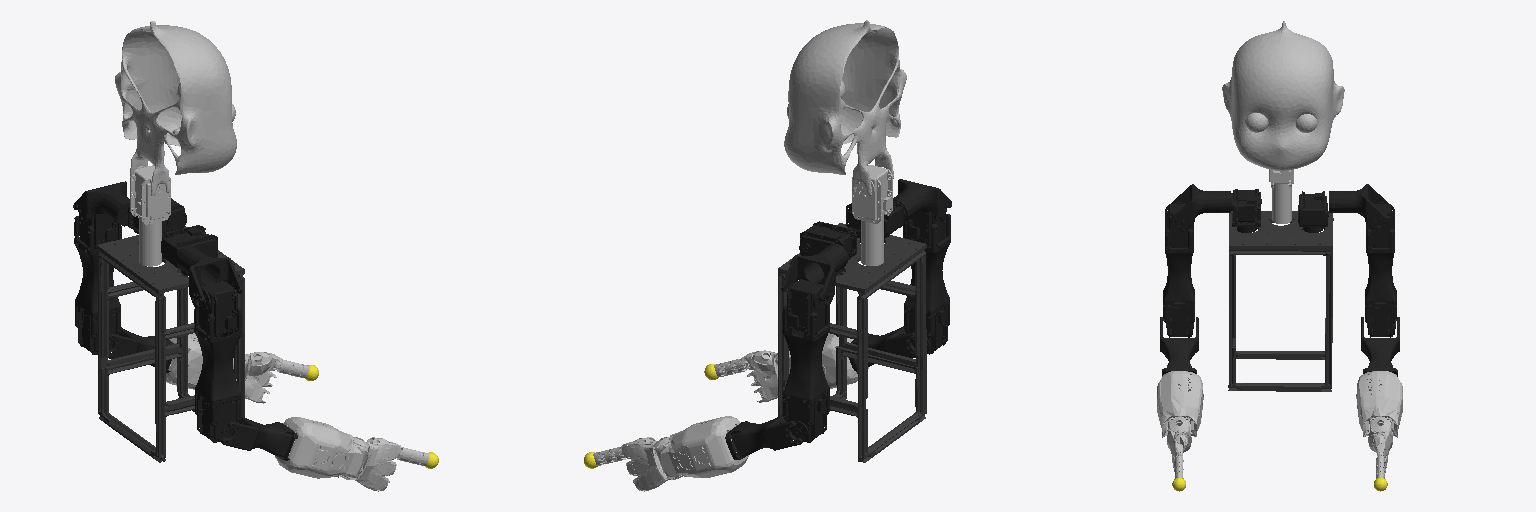
The robot description file, URDF, robot "nico_upper_rh6d":
<?xml version="1.0" ?>
<!-- =================================================================================== -->
<!-- |    This document was manually created   and the meshes resized and repositioned | -->
<!-- |    EDITING THIS FILE BY HAND IS NOT RECOMMENDED                                 | -->
<!-- =================================================================================== -->
<!--
  Copyright (c) 2023, [author]
  All rights reserved.

  This work is licensed under the Creative Commons Attribution-NonCommercial-NoDerivs 3.0 Unported License.
  To view a copy of this license, visit http://creativecommons.org/licenses/by-nc-nd/3.0/ or send a letter to
  Creative Commons, 444 Castro Street, Suite 900, Mountain View, California, 94041, USA.
-->
<robot name="nico_upper_rh6d">
	<link name="world" />
	<link name="torso">
		<visual>
			<geometry>
				<mesh filename="mesh/torso.stl"/>
			</geometry>
			<origin rpy="0 0 0" xyz="0.0 0.0 0.0"/>
			<material name="torso_color">
				<color rgba="0.270588 0.270588 0.270588 1"/>
			</material>
		</visual>
	</link>
	<joint name="world_to_base_link" type="fixed">
    	<parent link="world"/>
    	<child link="torso"/>
  	</joint>
    <link name="neck">
		<visual>
			<geometry>
				<mesh filename="mesh/neck.stl"/>
			</geometry>
			<origin rpy="0 0 0" xyz="0.0 0.0 0.0"/>
			<material name="neck_color">
				<color rgba="0.74902 0.74902 0.74902 1"/>
			</material>
		</visual>
		<collision>
			<geometry>
				<mesh filename="mesh/neck.stl"/>
			</geometry>
			<origin rpy="0 0 0" xyz="0.0 0.0 0.0"/>
		</collision>
		<inertial>
			<mass value="0.090439"/>
			<inertia ixx="0.00006" ixy="-0" ixz="-0" iyy="0.000056" iyz="-0.000001" izz="0.000019"/>
			<origin rpy="0 0 0" xyz="0 0.000266 0.050352"/>
		</inertial>
	</link>
	<joint name="head_z_rjoint" type="fixed">
		<parent link="torso"/>
		<child link="neck"/>
		<origin rpy="0 0 0" xyz="-0.025 0.005 0.23"/>
		<axis xyz="0 0 1"/>
		<limit effort="30" lower="-1.5708" upper="1.5708" velocity="1"/>
	</joint>
	<link name="head">
		<visual>
			<geometry>
				<mesh filename="mesh/head.stl"/>
			</geometry>
			<origin rpy="0 0 0" xyz="0 0 0"/>
			<material name="head_color">
				<color rgba="0.74902 0.74902 0.74902 1"/>
			</material>
		</visual>
		<collision>
			<geometry>
				<mesh filename="mesh/head.stl"/>
			</geometry>
			<origin rpy="0 0 0" xyz="0 0 0"/>
		</collision>
		<inertial>
			<mass value="0.294137"/>
			<inertia ixx="0.001424" ixy="-0" ixz="0.000083" iyy="0.00159" iyz="-0.000002" izz="0.001485"/>
			<origin rpy="0 0 0" xyz="0.01525 -0.023771 0.09423"/>
		</inertial>
	</link>
	<joint name="head_y_rjoint" type="fixed">
		<parent link="neck"/>
		<child link="head"/>
		<origin rpy="0 0 0" xyz="0 0.0 0.105"/>
		<axis xyz="0 1 0"/>
		<limit effort="30" lower="-0.8726" upper="0.4363" velocity="1"/>
	</joint>
    <!-- ====RIGHT ARM=== -->
	<link name="right_shoulder">
		<visual>
			<geometry>
				<mesh filename="mesh/right_shoulder.stl"/>
			</geometry>
			<origin rpy="0 0 0" xyz="0 0 0"/>
			<material name="right_shoulder_color">
				<color rgba="0.176471 0.176471 0.176471 1"/>
			</material>
		</visual>
		<collision>
			<geometry>
				<mesh filename="mesh/right_shoulder.stl"/>
			</geometry>
			<origin rpy="0 0 0" xyz="0 0 0"/>
		</collision>
		<inertial>
			<mass value="0.084038"/>
			<inertia ixx="0.000026" ixy="-0.000001" ixz="-0.000002" iyy="0.000034" iyz="-0" izz="0.000033"/>
			<origin rpy="0 0 0" xyz="0.005637 0.000876 0.033153"/>
		</inertial>
	</link>
	<joint name="r_shoulder_z_rjoint" type="revolute">
		<parent link="torso"/>
		<child link="right_shoulder"/>
		<origin rpy="0 0 0" xyz="0.005 -0.045 0.23"/>
		<axis xyz="0 0 1"/>
		<limit effort="30" lower="-0.4363" upper="1.3963" velocity="1"/>
	</joint>
	<link name="right_collarbone">
		<visual>
			<geometry>
				<mesh filename="mesh/right_collar.stl"/>
			</geometry>
			<origin rpy="0 0 0" xyz="0 0 0"/>
			<material name="right_collarbone_color">
				<color rgba="0.176471 0.176471 0.176471 1"/>
			</material>
		</visual>
		<collision>
			<geometry>
				<mesh filename="mesh/right_collar.stl"/>
			</geometry>
			<origin rpy="0 0 0" xyz="0 0 0"/>
		</collision>
		<inertial>
			<mass value="0.024811"/>
			<inertia ixx="0.000014" ixy="-0" ixz="0" iyy="0.000011" iyz="-0.000001" izz="0.000019"/>
			<origin rpy="0 0 0" xyz="-0 -0.041345 -0.002364"/>
		</inertial>
	</link>
	<joint name="r_shoulder_y_rjoint" type="revolute">
		<parent link="right_shoulder"/>
		<child link="right_collarbone"/>
		<origin rpy="0 0 0" xyz="-0.021 -0.023 0.033"/>
		<axis xyz="0 -1 0"/>
		<limit effort="30" lower="-0.5236" upper="3.1416" velocity="1"/>
	</joint>
	<link name="right_upper_arm">
		<visual>
			<geometry>
				<mesh filename="mesh/right_upper_arm.stl"/>
			</geometry>
			<origin rpy="0 0 0" xyz="0 0 0"/>
			<material name="right_upper_arm_color">
				<color rgba="0.176471 0.176471 0.176471 1"/>
			</material>
		</visual>
		<collision>
			<geometry>
				<mesh filename="mesh/right_upper_arm.stl"/>
			</geometry>
			<origin rpy="0 0 0" xyz="0 0 0"/>
		</collision>
		<inertial>
			<mass value="0.189729"/>
			<inertia ixx="0.000851" ixy="0" ixz="0" iyy="0.000851" iyz="-0.000005" izz="0.000048"/>
			<origin rpy="0 0 0" xyz="-0.02306 -0.000321 -0.0866"/>
		</inertial>
	</link>
	<joint name="r_upperarm_x_rjoint" type="revolute">
		<parent link="right_collarbone"/>
		<child link="right_upper_arm"/>
		<origin rpy="0 0 0" xyz="0.00 -0.073 -0.023"/>
		<axis xyz="-1 0 0"/>
		<limit effort="30" lower="0" upper="1.2217" velocity="1"/>
	</joint>
	<link name="right_lower_arm">
		<visual>
			<geometry>
				<mesh filename="mesh/right_lower_arm.stl"/>
			</geometry>
			<origin rpy="0 0 0" xyz="0 0 0"/>
			<material name="right_lower_arm_color">
				<color rgba="0.176471 0.176471 0.176471 1"/>
			</material>
		</visual>
		<collision>
			<geometry>
				<mesh filename="mesh/right_lower_arm.stl"/>
			</geometry>
			<origin rpy="0 0 0" xyz="0 0 0"/>
		</collision>
		<inertial>
			<mass value="0.076793"/>
			<inertia ixx="0.000104" ixy="-0" ixz="-0" iyy="0.000095" iyz="-0.000002" izz="0.000021"/>
			<origin rpy="0 0 0" xyz="0 0.022485 -0.081055"/>
		</inertial>
	</link>
	<joint name="r_elbow_y_rjoint" type="revolute">
		<parent link="right_upper_arm"/>
		<child link="right_lower_arm"/>
		<origin rpy="0 3.14 0" xyz="0.0 0 -0.17"/>
		<axis xyz="0 1 0"/>
		<limit effort="30" lower="0.8726" upper="3.1416" velocity="1"/>
	</joint>
	<link name="right_wrist">
		<visual>
			<geometry>
				<mesh filename="mesh/right_wrist.stl"/>
			</geometry>
			<origin rpy="0 0 0" xyz="0 0 0"/>
			<material name="right_wrist_color">
				<color rgba="0.74902 0.74902 0.74902 1"/>
			</material>
		</visual>
		<collision>
			<geometry>
				<mesh filename="mesh/right_wrist.stl"/>
			</geometry>
			<origin rpy="0 0 0" xyz="0 0 0"/>
		</collision>
		<inertial>
			<mass value="0.028397"/>
			<inertia ixx="0.000043" ixy="-0" ixz="0.000004" iyy="0.000058" iyz="-0.000007" izz="0.000029"/>
			<origin rpy="0 0 0" xyz="0.000031 -0.011056 -0.0675"/>
		</inertial>
	</link>
	<joint name="r_wrist_z_rjoint" type="revolute">
		<parent link="right_lower_arm"/>
		<child link="right_wrist"/>
		<origin rpy="0 0 1.57" xyz="0 0 -0.105"/>
		<axis xyz="0 0 1"/>
		<limit effort="30" lower="-1.571" upper="1.571" velocity="1"/>
	</joint>
	<link name="right_palm"> <!--gripper-->
		<visual>
			<geometry>
				<mesh filename="mesh/right_palm.stl"/>
			</geometry>
			<origin rpy="0 0 0" xyz="0 0 0"/>
			<material name="gripper_color">
				<color rgba="0.74902 0.74902 0.74902 1"/>
			</material>
		</visual>
		<collision>
			<geometry>
				<mesh filename="mesh/right_palm.stl"/>
			</geometry>
			<origin rpy="0 0 0" xyz="0 0 0"/>
		</collision>
		<inertial>
			<mass value="0.005332"/>
			<inertia ixx="0.000015" ixy="0.000001" ixz="-0.000004" iyy="0.000017" iyz="0.000004" izz="0.000006"/>
			<origin rpy="0 0 0" xyz="-0.029511 0.002253 -0.023968"/>
		</inertial>
	</link>
	<joint name="r_wrist_x_rjoint" type="revolute">
		<parent link="right_wrist"/>
		<child link="right_palm"/>
		<origin rpy="0 0 0" xyz="0 0 -0.10"/>
		<axis xyz="0 1 0"/>
		<limit effort="30" lower="-.78" upper="0.78" velocity="1"/>
	</joint>
	<!--link name="endeffector">
    	<visual>
      		<origin rpy="0 0 0" xyz="0 0.0 0.0"/>
      		<geometry>
        		<sphere radius="0.01"/>
      		</geometry>
    	</visual>
  	</link>
	<joint name="endeffector_joint" type="fixed">
    	<parent link="gripper"/>
    	<child link="endeffector"/>
    	<origin rpy="0 0 0" xyz="0.00 -0.02 -0.11"/>
	</joint-->
	<!--link name="middlefinger">
		<visual>
			<geometry>
				<mesh filename="mesh/finger.stl"/>
			</geometry>
			<origin rpy="0 0 0" xyz="0 0 0"/>
			<material name="finger_color">
				<color rgba="0.74902 0.74902 0.74902 1"/>
			</material>
		</visual>
		<collision>
			<geometry>
				<mesh filename="mesh/finger.stl"/>
			</geometry>
			<origin rpy="0 0 0" xyz="0 0 0"/>
		</collision>
		<inertial>
			<mass value="0.000009"/>
			<inertia ixx="0" ixy="0" ixz="-0" iyy="0" iyz="0" izz="0"/>
			<origin rpy="0 0 0" xyz="0.005409 0.000556 -0.005751"/>
		</inertial>
	</link-->
	<!--link name="littlefinger">
		<visual>
			<geometry>
				<mesh filename="mesh/finger.stl"/>
			</geometry>
			<origin rpy="0 0 0" xyz="0 0 0"/>
			<material name="finger_color">
				<color rgba="0.74902 0.74902 0.74902 1"/>
			</material>
		</visual>
		<collision>
			<geometry>
				<mesh filename="mesh/finger.stl"/>
			</geometry>
			<origin rpy="0 0 0" xyz="0 0 0"/>
		</collision>
		<inertial>
			<mass value="0.000009"/>
			<inertia ixx="0" ixy="0" ixz="-0" iyy="0" iyz="0" izz="0"/>
			<origin rpy="0 0 0" xyz="0.005409 0.000556 -0.005751"/>
		</inertial>
	</link-->
	<link name="gripper"> <!--indexfinder-->
		<visual>
			<geometry>
				<mesh filename="mesh/finger.stl"/>
			</geometry>
			<origin rpy="0 0 0" xyz="0 0 0"/>
			<material name="finger_color">
				<color rgba="0.74902 0.74902 0.74902 1"/>
			</material>
		</visual>
		<collision>
			<geometry>
				<mesh filename="mesh/finger.stl"/>
			</geometry>
			<origin rpy="0 0 0" xyz="0 0 0"/>
		</collision>
		<inertial>
			<mass value="0.000009"/>
			<inertia ixx="0" ixy="0" ixz="-0" iyy="0" iyz="0" izz="0"/>
			<origin rpy="0 0 0" xyz="0.005409 0.000556 -0.005751"/>
		</inertial>
	</link>
	<!--joint name="middlefinger_rjoint" type="fixed">
		<parent link="gripper"/>
		<child link="middlefinger"/>
		<origin rpy="0 0 0" xyz="0 0 -0.06"/>
		<axis xyz="0 1 0"/>
		<limit effort="30" lower="-2.57" upper="0" velocity="1"/>
	</joint-->
	<!--joint name="litlefinger_rjoint" type="fixed">
		<parent link="gripper"/>
		<child link="littlefinger"/>
		<origin rpy="0 0 0" xyz="0.00 0.02 -0.06"/>
		<axis xyz="0 1 0"/>
		<limit effort="30" lower="-2.57" upper="0" velocity="1"/>
	</joint-->
	<joint name="gripper_rjoint" type="revolute">
		<parent link="right_palm"/>
		<child link="gripper"/>
		<origin rpy="0 0 0" xyz="0.00 -0.02 -0.06"/>
		<axis xyz="0 1 0"/>
		<limit effort="30" lower="-2.57" upper="0" velocity="1"/>
	</joint>
	<link name="endeffector">
    	<visual>
      		<origin rpy="0 0 0" xyz="0 0.0 0.0"/>
      		<geometry>
        		<sphere radius="0.01"/>
      		</geometry>
    	</visual>
  	</link>
	<joint name="endeffector_joint" type="fixed">
    	<parent link="gripper"/>
    	<child link="endeffector"/>
    	<origin rpy="0 0 0" xyz="0.00 -0.0 -0.05"/>
	</joint>
    <!-- ====LEFT ARM=== -->
    <link name="left_shoulder">
		<visual>
			<geometry>
				<mesh filename="mesh/left_shoulder.stl"/>
			</geometry>
			<origin rpy="0 0 0" xyz="0 0 0"/>
			<material name="left_shoulder_color">
				<color rgba="0.176471 0.176471 0.176471 1"/>
			</material>
		</visual>
		<collision>
			<geometry>
				<mesh filename="mesh/left_shoulder.stl"/>
			</geometry>
			<origin rpy="0 0 0" xyz="0 0 0"/>
		</collision>
		<inertial>
			<mass value="0.084038"/>
			<inertia ixx="0.000026" ixy="-0.000001" ixz="-0.000002" iyy="0.000034" iyz="-0" izz="0.000033"/>
			<origin rpy="0 0 0" xyz="0.005637 0.000876 0.033153"/>
		</inertial>
	</link>
	<joint name="l_shoulder_z_rjoint" type="revolute">
		<parent link="torso"/>
		<child link="left_shoulder"/>
		<origin rpy="0 0 0" xyz="0.005 0.05 0.23"/>
		<axis xyz="0 0 1"/>
		<limit effort="30" lower="-1.3963" upper="0.4363" velocity="1"/>
	</joint>
	<link name="left_collarbone">
		<visual>
			<geometry>
				<mesh filename="mesh/left_collar.stl"/>
			</geometry>
			<origin rpy="0 0 0" xyz="0 0 0"/>
			<material name="right_collarbone_color">
				<color rgba="0.176471 0.176471 0.176471 1"/>
			</material>
		</visual>
		<collision>
			<geometry>
				<mesh filename="mesh/left_collar.stl"/>
			</geometry>
			<origin rpy="0 0 0" xyz="0 0 0"/>
		</collision>
		<inertial>
			<mass value="0.024811"/>
			<inertia ixx="0.000014" ixy="-0" ixz="0" iyy="0.000011" iyz="-0.000001" izz="0.000019"/>
			<origin rpy="0 0 0" xyz="-0 -0.041345 -0.002364"/>
		</inertial>
	</link>
	<joint name="l_shoulder_y_rjoint" type="revolute">
		<parent link="left_shoulder"/>
		<child link="left_collarbone"/>
		<origin rpy="0 0 0" xyz="-0.021 0.023 0.033"/>
		<axis xyz="0 -1 0"/>
		<limit effort="30" lower="-0.5236" upper="3.1416" velocity="1"/>
	</joint>
	<link name="left_upper_arm">
		<visual>
			<geometry>
				<mesh filename="mesh/right_upper_arm.stl"/>
			</geometry>
			<origin rpy="0 0 0" xyz="0 0 0"/>
			<material name="right_upper_arm_color">
				<color rgba="0.176471 0.176471 0.176471 1"/>
			</material>
		</visual>
		<collision>
			<geometry>
				<mesh filename="mesh/right_upper_arm.stl"/>
			</geometry>
			<origin rpy="0 0 0" xyz="0 0 0"/>
		</collision>
		<inertial>
			<mass value="0.189729"/>
			<inertia ixx="0.000851" ixy="0" ixz="0" iyy="0.000851" iyz="-0.000005" izz="0.000048"/>
			<origin rpy="0 0 0" xyz="-0.02306 -0.000321 -0.0866"/>
		</inertial>
	</link>
	<joint name="l_upperarm_x_rjoint" type="revolute">
		<parent link="left_collarbone"/>
		<child link="left_upper_arm"/>
		<origin rpy="0 0 0" xyz="0.00 0.073 -0.023"/>
		<axis xyz="1 0 0"/>
		<limit effort="30" lower="0" upper="1.2217" velocity="1"/>
	</joint>
	<link name="left_lower_arm">
		<visual>
			<geometry>
				<mesh filename="mesh/right_lower_arm.stl"/>
			</geometry>
			<origin rpy="0 0 0" xyz="0 0 0"/>
			<material name="right_lower_arm_color">
				<color rgba="0.176471 0.176471 0.176471 1"/>
			</material>
		</visual>
		<collision>
			<geometry>
				<mesh filename="mesh/right_lower_arm.stl"/>
			</geometry>
			<origin rpy="0 0 0" xyz="0 0 0"/>
		</collision>
		<inertial>
			<mass value="0.076793"/>
			<inertia ixx="0.000104" ixy="-0" ixz="-0" iyy="0.000095" iyz="-0.000002" izz="0.000021"/>
			<origin rpy="0 0 0" xyz="0 0.022485 -0.081055"/>
		</inertial>
	</link>
	<joint name="l_elbow_y_rjoint" type="revolute">
		<parent link="left_upper_arm"/>
		<child link="left_lower_arm"/>
		<origin rpy="0 3.14 0" xyz="0.0 0 -0.17"/>
		<axis xyz="0 1 0"/>
		<limit effort="30" lower="0.8726" upper="3.1416" velocity="1"/>
	</joint>
	<link name="left_wrist">
		<visual>
			<geometry>
				<mesh filename="mesh/left_wrist.stl"/>
			</geometry>
			<origin rpy="0 0 0" xyz="0 0 0"/>
			<material name="right_wrist_color">
				<color rgba="0.74902 0.74902 0.74902 1"/>
			</material>
		</visual>
		<collision>
			<geometry>
				<mesh filename="mesh/left_wrist.stl"/>
			</geometry>
			<origin rpy="0 0 0" xyz="0 0 0"/>
		</collision>
		<inertial>
			<mass value="0.028397"/>
			<inertia ixx="0.000043" ixy="-0" ixz="0.000004" iyy="0.000058" iyz="-0.000007" izz="0.000029"/>
			<origin rpy="0 0 0" xyz="0.000031 -0.011056 -0.0675"/>
		</inertial>
	</link>
	<joint name="l_wrist_z_rjoint" type="revolute">
		<parent link="left_lower_arm"/>
		<child link="left_wrist"/>
		<origin rpy="0 0 1.57" xyz="0 0 -0.105"/>
		<axis xyz="0 0 1"/>
		<limit effort="30" lower="-1.571" upper="1.571" velocity="1"/>
	</joint>
	<link name="left_palm"> <!--gripper-->
		<visual>
			<geometry>
				<mesh filename="mesh/left_palm.stl"/>
			</geometry>
			<origin rpy="0 0 0" xyz="0 0 0"/>
			<material name="gripper_color">
				<color rgba="0.74902 0.74902 0.74902 1"/>
			</material>
		</visual>
		<collision>
			<geometry>
				<mesh filename="mesh/left_palm.stl"/>
			</geometry>
			<origin rpy="0 0 0" xyz="0 0 0"/>
		</collision>
		<inertial>
			<mass value="0.005332"/>
			<inertia ixx="0.000015" ixy="0.000001" ixz="-0.000004" iyy="0.000017" iyz="0.000004" izz="0.000006"/>
			<origin rpy="0 0 0" xyz="-0.029511 0.002253 -0.023968"/>
		</inertial>
	</link>
	<joint name="l_wrist_x_rjoint" type="revolute">
		<parent link="left_wrist"/>
		<child link="left_palm"/>
		<origin rpy="0 0 0" xyz="0 0 -0.10"/>
		<axis xyz="0 1 0"/>
		<limit effort="30" lower="-.78" upper="0.78" velocity="1"/>
	</joint>
    <!--link name="endeffector">
    	<visual>
      		<origin rpy="0 0 0" xyz="0 0.0 0.0"/>
      		<geometry>
        		<sphere radius="0.01"/>
      		</geometry>
    	</visual>
  	</link>
	<joint name="endeffector_joint" type="fixed">
    	<parent link="gripper"/>
    	<child link="endeffector"/>
    	<origin rpy="0 0 0" xyz="0.00 -0.02 -0.11"/>
	</joint-->
	<!--link name="middlefinger">
		<visual>
			<geometry>
				<mesh filename="mesh/finger.stl"/>
			</geometry>
			<origin rpy="0 0 0" xyz="0 0 0"/>
			<material name="finger_color">
				<color rgba="0.74902 0.74902 0.74902 1"/>
			</material>
		</visual>
		<collision>
			<geometry>
				<mesh filename="mesh/finger.stl"/>
			</geometry>
			<origin rpy="0 0 0" xyz="0 0 0"/>
		</collision>
		<inertial>
			<mass value="0.000009"/>
			<inertia ixx="0" ixy="0" ixz="-0" iyy="0" iyz="0" izz="0"/>
			<origin rpy="0 0 0" xyz="0.005409 0.000556 -0.005751"/>
		</inertial>
	</link-->
	<!--link name="littlefinger">
		<visual>
			<geometry>
				<mesh filename="mesh/finger.stl"/>
			</geometry>
			<origin rpy="0 0 0" xyz="0 0 0"/>
			<material name="finger_color">
				<color rgba="0.74902 0.74902 0.74902 1"/>
			</material>
		</visual>
		<collision>
			<geometry>
				<mesh filename="mesh/finger.stl"/>
			</geometry>
			<origin rpy="0 0 0" xyz="0 0 0"/>
		</collision>
		<inertial>
			<mass value="0.000009"/>
			<inertia ixx="0" ixy="0" ixz="-0" iyy="0" iyz="0" izz="0"/>
			<origin rpy="0 0 0" xyz="0.005409 0.000556 -0.005751"/>
		</inertial>
	</link-->
	<link name="grippel"> <!--indexfinder-->
		<visual>
			<geometry>
				<mesh filename="mesh/finger.stl"/>
			</geometry>
			<origin rpy="0 0 0" xyz="0 0 0"/>
			<material name="finger_color">
				<color rgba="0.74902 0.74902 0.74902 1"/>
			</material>
		</visual>
		<collision>
			<geometry>
				<mesh filename="mesh/finger.stl"/>
			</geometry>
			<origin rpy="0 0 0" xyz="0 0 0"/>
		</collision>
		<inertial>
			<mass value="0.000009"/>
			<inertia ixx="0" ixy="0" ixz="-0" iyy="0" iyz="0" izz="0"/>
			<origin rpy="0 0 0" xyz="0.005409 0.000556 -0.005751"/>
		</inertial>
	</link>
	<!--joint name="middlefinger_rjoint" type="fixed">
		<parent link="gripper"/>
		<child link="middlefinger"/>
		<origin rpy="0 0 0" xyz="0 0 -0.06"/>
		<axis xyz="0 1 0"/>
		<limit effort="30" lower="-2.57" upper="0" velocity="1"/>
	</joint-->
	<!--joint name="litlefinger_rjoint" type="fixed">
		<parent link="gripper"/>
		<child link="littlefinger"/>
		<origin rpy="0 0 0" xyz="0.00 0.02 -0.06"/>
		<axis xyz="0 1 0"/>
		<limit effort="30" lower="-2.57" upper="0" velocity="1"/>
	</joint-->
	<joint name="grippel_rjoint" type="revolute">
		<parent link="left_palm"/>
		<child link="grippel"/>
		<origin rpy="0 0 0" xyz="0.00 -0.02 -0.06"/>
		<axis xyz="0 1 0"/>
		<limit effort="30" lower="0" upper="2.57" velocity="1"/>
	</joint>
	<link name="endeffectol">
    	<visual>
      		<origin rpy="0 0 0" xyz="0 0.0 0.0"/>
      		<geometry>
        		<sphere radius="0.01"/>
      		</geometry>
    	</visual>
  	</link>
	<joint name="endeffectol_joint" type="fixed">
    	<parent link="grippel"/>
    	<child link="endeffectol"/>
    	<origin rpy="0 0 0" xyz="0.00 -0.0 -0.05"/>
	</joint>
</robot>

--- What the picture shows (computed from the rendered views, not written in the file) ---
Views: 3 orthographic renders of the robot side by side, from view 1: azimuth 30°, elevation 25°; view 2: azimuth 150°, elevation 25°; view 3: azimuth 270°, elevation 25°.
Robot: nico_upper_rh6d — 20 links, 19 joints (14 revolute, 5 fixed); root link world; default pose: joints at zero except 2 at the middle of their limits (r_elbow_y_rjoint = 2.01, l_elbow_y_rjoint = 2.01).
Links seen in each view (by area): view 1: head, torso, right_upper_arm, left_upper_arm, right_wrist, neck, right_collarbone, right_lower_arm, right_palm, left_collarbone, right_shoulder, left_palm (+3 smaller); view 2: head, torso, left_upper_arm, right_upper_arm, left_wrist, neck, left_lower_arm, left_collarbone, left_palm, right_collarbone, left_shoulder, right_palm (+3 smaller); view 3: head, torso, left_upper_arm, right_upper_arm, right_wrist, left_wrist, right_collarbone, left_collarbone, left_lower_arm, right_lower_arm, right_shoulder, neck (+3 smaller).
Boxes of the visible links, x1=… form: head: x1=115, y1=21, x2=236, y2=195; torso: x1=97, y1=226, x2=244, y2=462; right_upper_arm: x1=194, y1=280, x2=241, y2=442; left_upper_arm: x1=74, y1=211, x2=121, y2=354; right_wrist: x1=275, y1=417, x2=368, y2=478; neck: x1=130, y1=165, x2=170, y2=266; right_collarbone: x1=176, y1=246, x2=242, y2=308; right_lower_arm: x1=221, y1=415, x2=297, y2=460; right_palm: x1=339, y1=437, x2=401, y2=491; left_collarbone: x1=73, y1=181, x2=130, y2=226; right_shoulder: x1=161, y1=225, x2=217, y2=275; left_palm: x1=245, y1=352, x2=282, y2=403; head: x1=784, y1=20, x2=906, y2=195; torso: x1=778, y1=223, x2=926, y2=462; left_upper_arm: x1=782, y1=279, x2=829, y2=442; right_upper_arm: x1=903, y1=210, x2=950, y2=354; left_wrist: x1=654, y1=416, x2=748, y2=477; neck: x1=852, y1=165, x2=892, y2=265; left_lower_arm: x1=725, y1=415, x2=802, y2=459; left_collarbone: x1=781, y1=244, x2=847, y2=306; left_palm: x1=621, y1=437, x2=683, y2=491; right_collarbone: x1=893, y1=179, x2=951, y2=221; left_shoulder: x1=799, y1=221, x2=856, y2=273; right_palm: x1=741, y1=350, x2=789, y2=402; head: x1=1222, y1=21, x2=1344, y2=170; torso: x1=1228, y1=211, x2=1333, y2=391; left_upper_arm: x1=1365, y1=202, x2=1396, y2=337; right_upper_arm: x1=1163, y1=202, x2=1194, y2=337; right_wrist: x1=1157, y1=371, x2=1203, y2=437; left_wrist: x1=1356, y1=371, x2=1402, y2=437; right_collarbone: x1=1171, y1=184, x2=1230, y2=231; left_collarbone: x1=1329, y1=184, x2=1388, y2=231; left_lower_arm: x1=1361, y1=317, x2=1399, y2=376; right_lower_arm: x1=1160, y1=317, x2=1198, y2=375; right_shoulder: x1=1231, y1=189, x2=1261, y2=232; neck: x1=1269, y1=169, x2=1293, y2=223.
Size in the robot's own frame: 0.3451 by 0.3512 by 0.6148 metres.
Meshes: 14 distinct files referenced, 17 mesh visuals loaded (14 binary STL).
